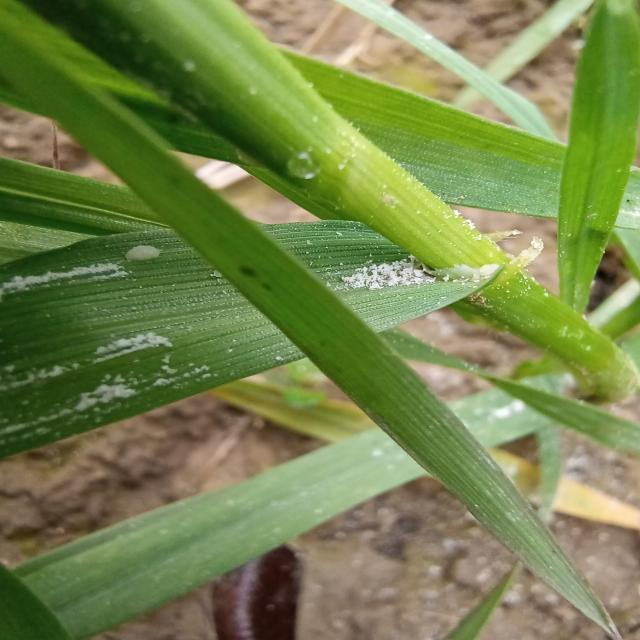Powdery Mildew: (19, 259, 241, 404), (297, 216, 474, 324)
